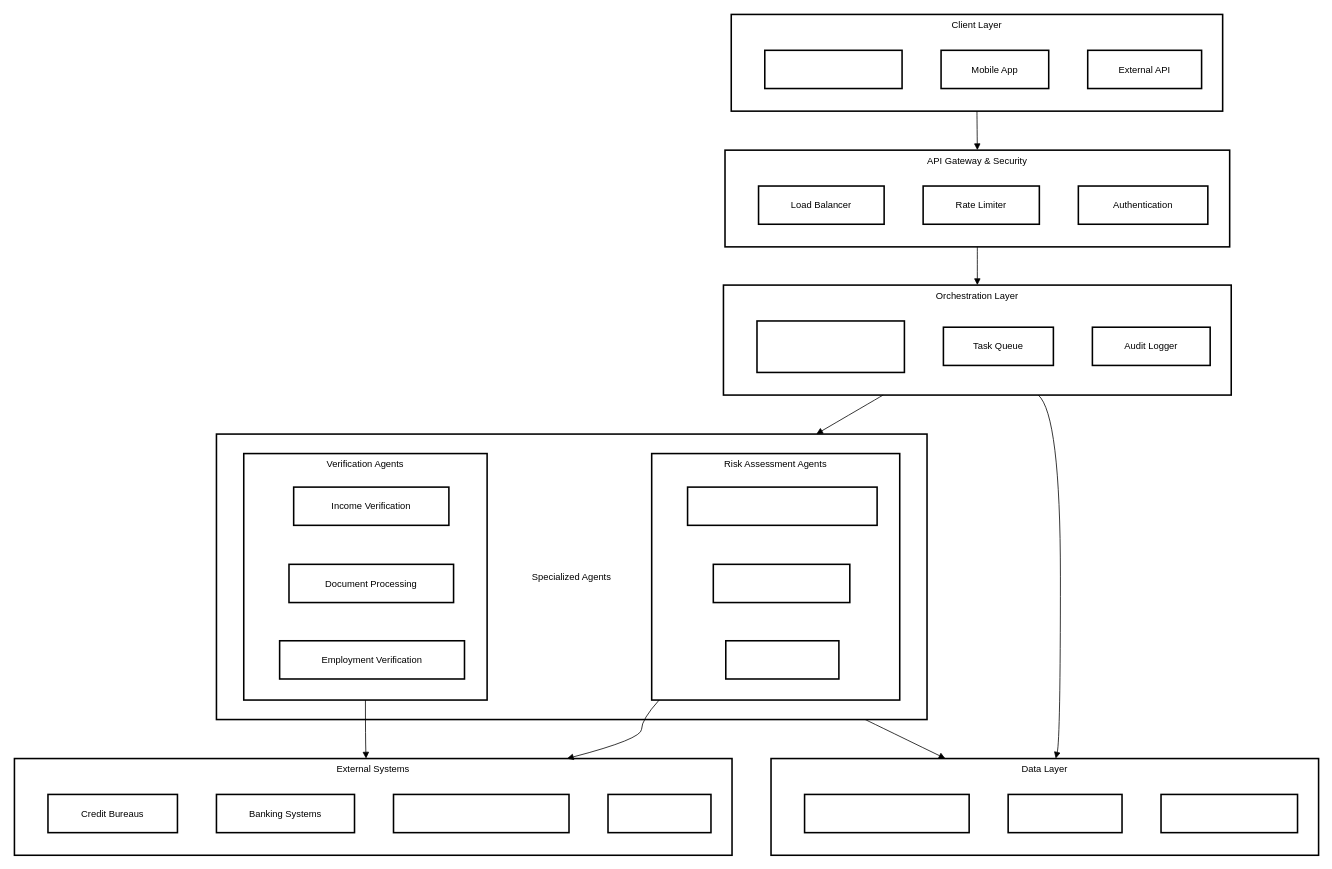
This 1332x869 diagram has some shape labels left out. Here are the shapes that lost their labels. From the top down, the centre of each, then its label:
the point at 833,69: Web Application
the point at 830,346: Credit Assessment Orchestrator
the point at 782,506: Credit Bureau Integration
the point at 781,583: Fraud Detection
the point at 782,659: Risk Scoring
the point at 480,813: Government Databases
the point at 659,813: ML Models
the point at 886,813: Application Database
the point at 1064,813: Redis Cache
the point at 1229,813: Data Warehouse
